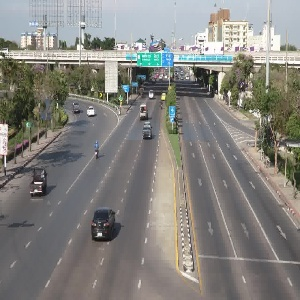car: (88, 202, 119, 245)
motorcycle: (88, 133, 107, 166)
